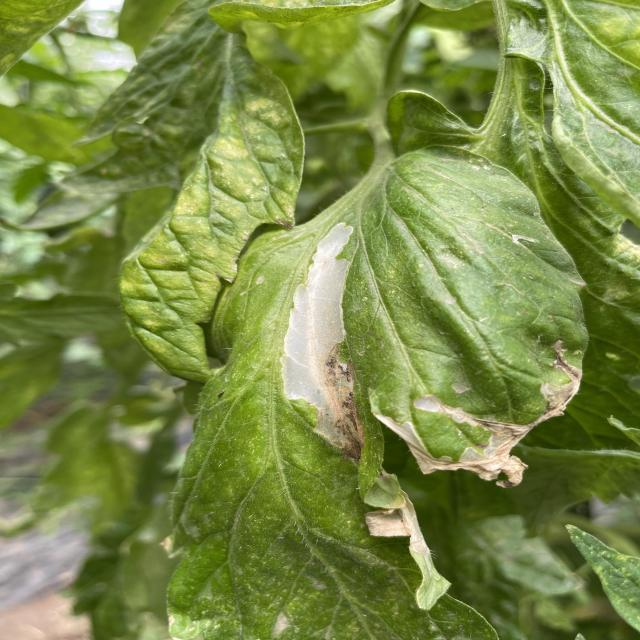Tuta absoluta: (461, 329, 597, 495), (274, 222, 365, 460), (412, 390, 483, 430), (451, 379, 472, 396)
